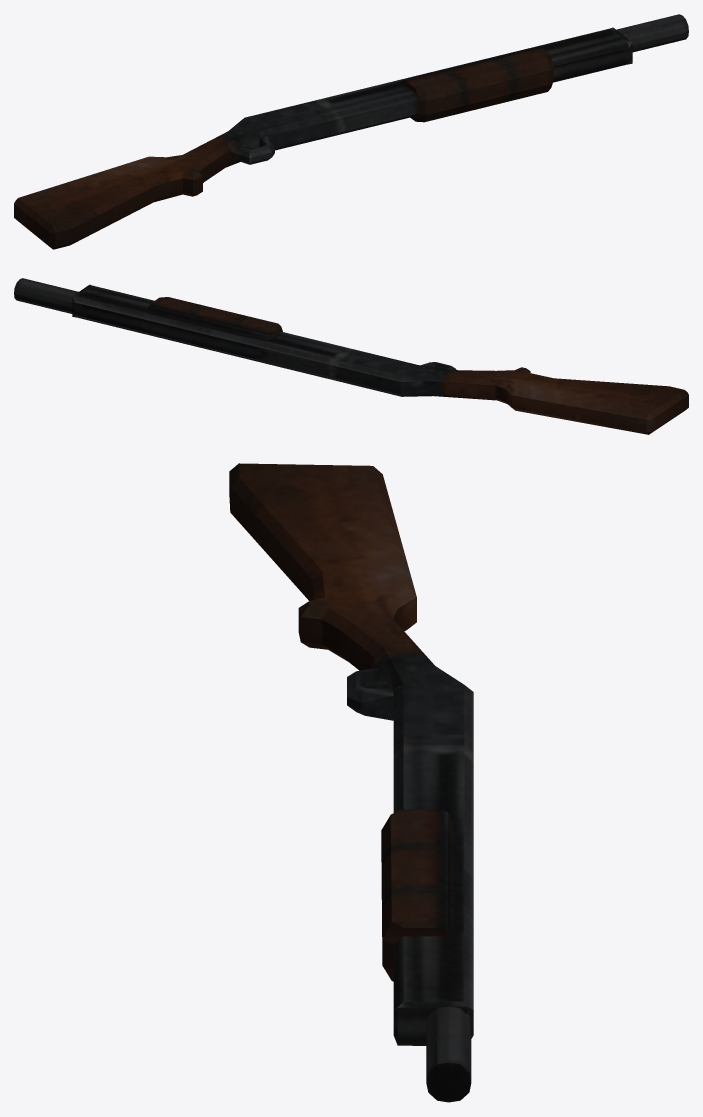
Rendered from shotgun_1.obj.
3 renders of one model, top to bottom at view 1: azimuth 30°, elevation 25°; view 2: azimuth 150°, elevation 25°; view 3: azimuth 270°, elevation 25°, orthographic. The views are drawn at different scales.
Visible parts, largest first — view 1: shotgun_1; view 2: shotgun_1; view 3: shotgun_1.
Boxes of the visible parts, bbox=[...] form: shotgun_1: bbox=[14, 14, 688, 249]; shotgun_1: bbox=[14, 278, 688, 434]; shotgun_1: bbox=[229, 463, 473, 1102].
Size of the model in its own units: 45.97 by 2.1 by 7.88.
Materials: 1 (1 with a texture image).
